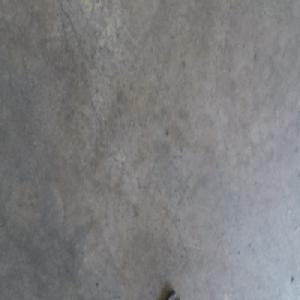Wrench: (166, 288, 177, 299)
